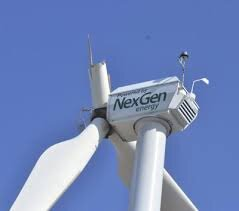faulty: (74, 33, 197, 155)
